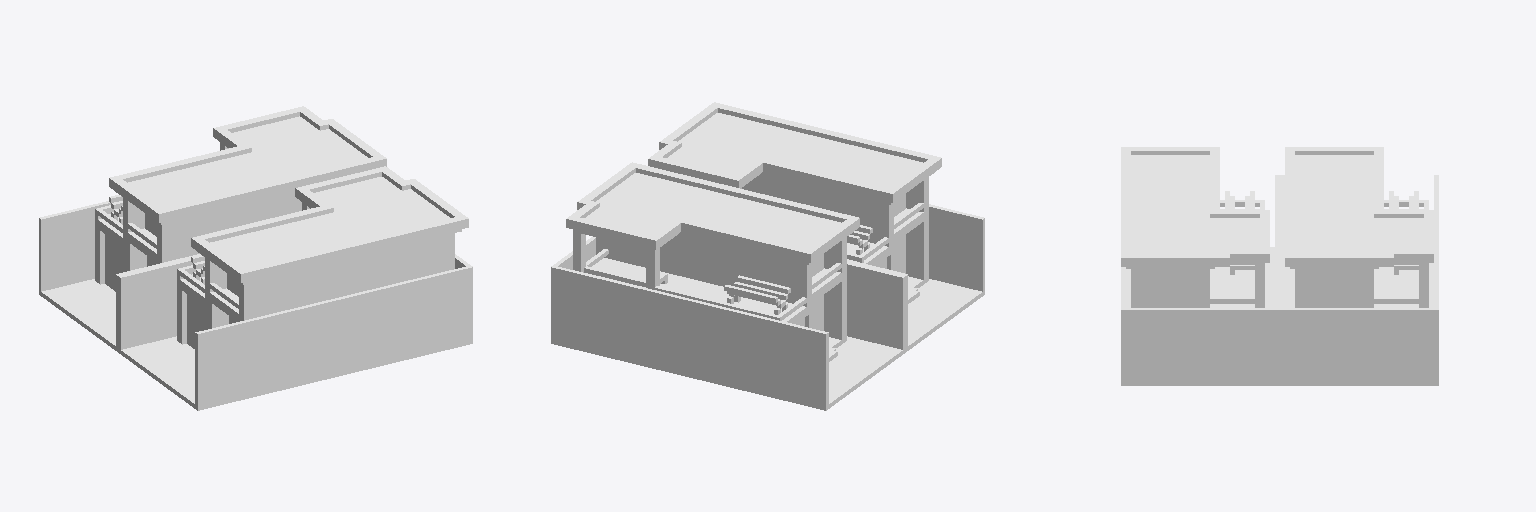
File: house-3.obj
3 views of the same model, side by side, from view 1: azimuth 30°, elevation 25°; view 2: azimuth 150°, elevation 25°; view 3: azimuth 270°, elevation 25° (orthographic).
Visible parts, largest first — view 1: object 1; view 2: object 1; view 3: object 1.
Boxes of the visible parts, x1,y1,x2,y2 form: object 1: [39, 106, 472, 410]; object 1: [551, 102, 984, 410]; object 1: [1121, 147, 1438, 385].
Bounding box in the file's own units: 6.4 × 2.8 × 6.4.